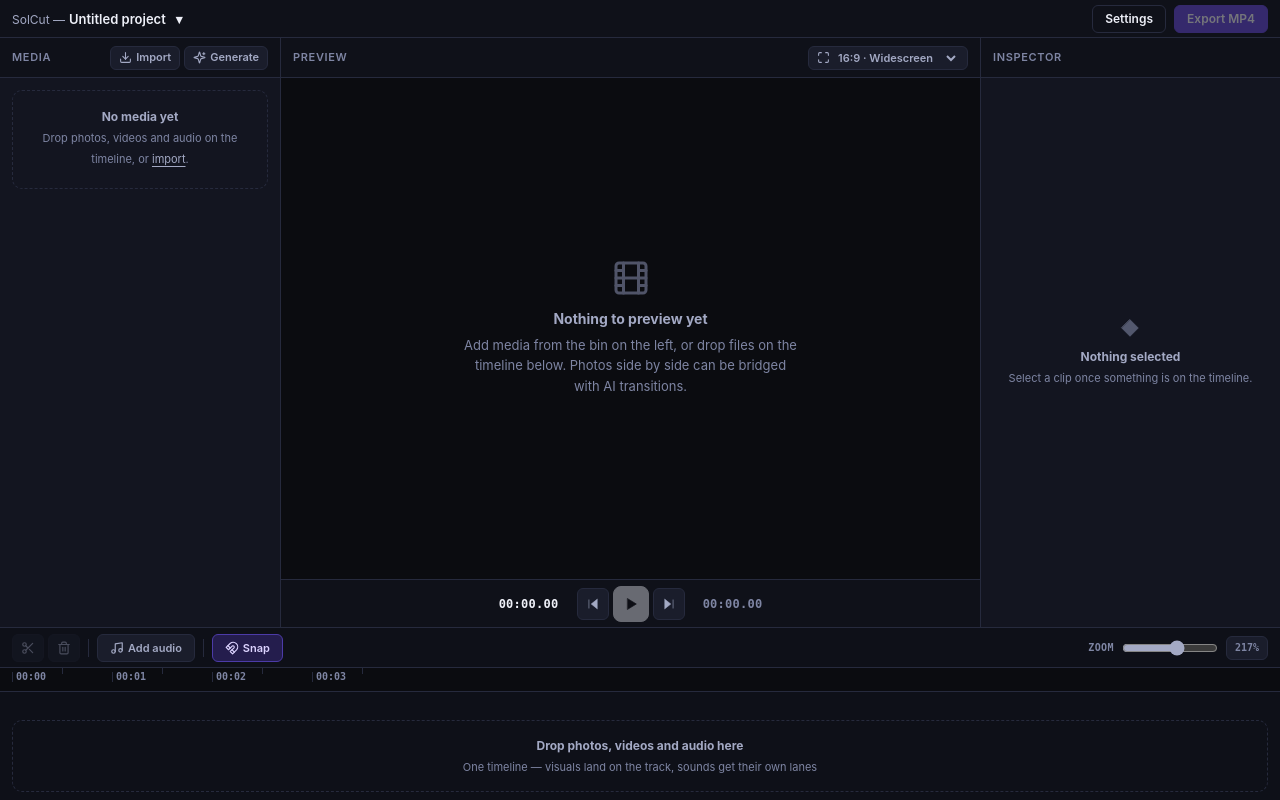
Scenario: generating a photo in the media bin › the finished photo lands in the bin and the timeline is left alone
Click the button with aria-label "Generate a photo or video".
click(226, 58)  # box [184,46,268,70]
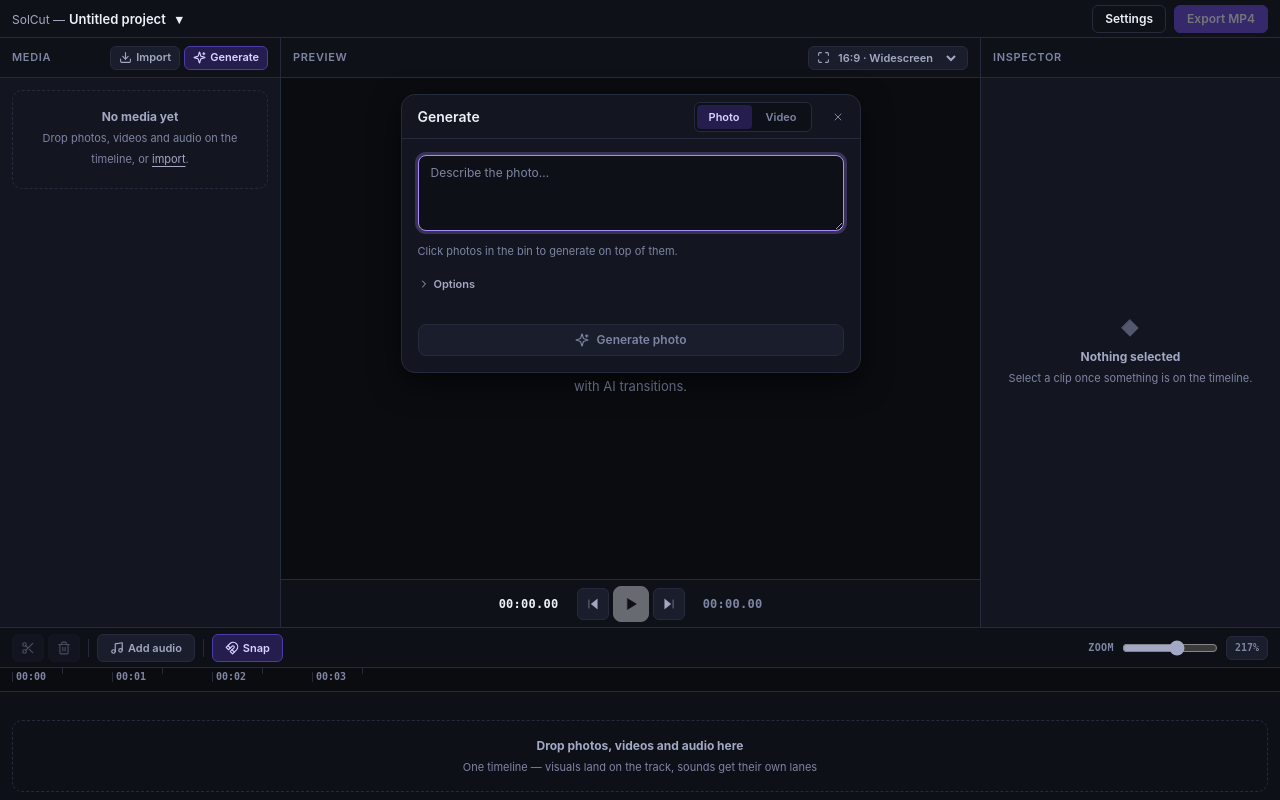
Type "a lighthouse" into the text box named "Describe the photo to generate".
click(630, 193); type("a lighthouse")  # box [418,155,844,231]
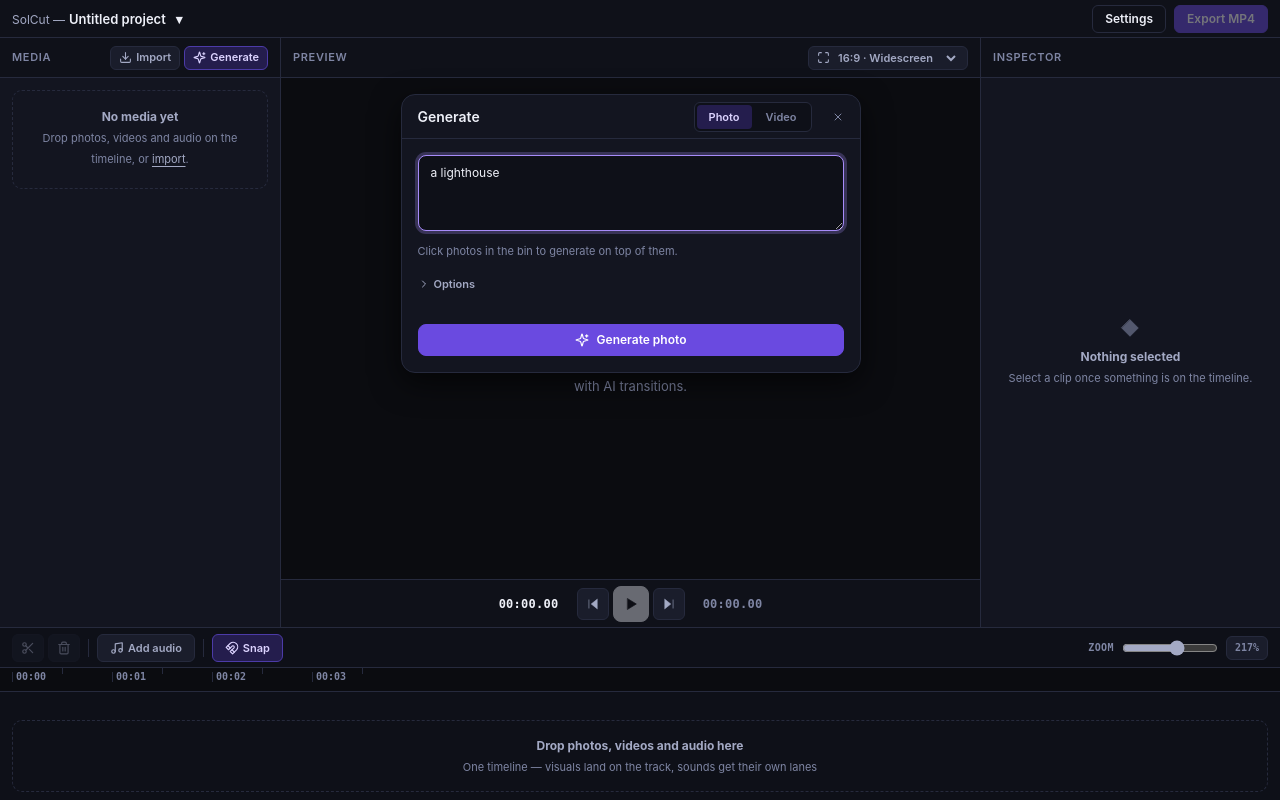
Click the button "Generate photo".
click(630, 340)  # box [418,324,844,356]
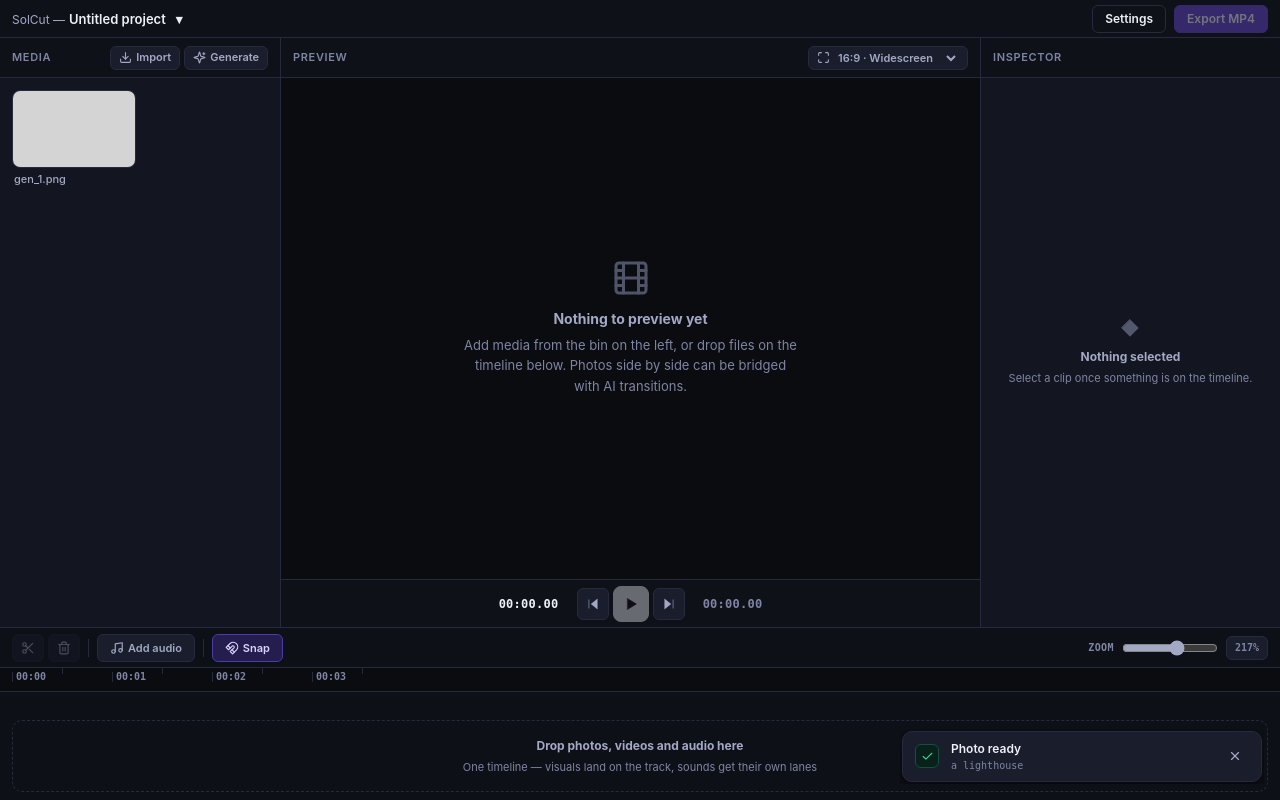
Result: the text "Photo ready" is shown at [951,741,1021,756]
